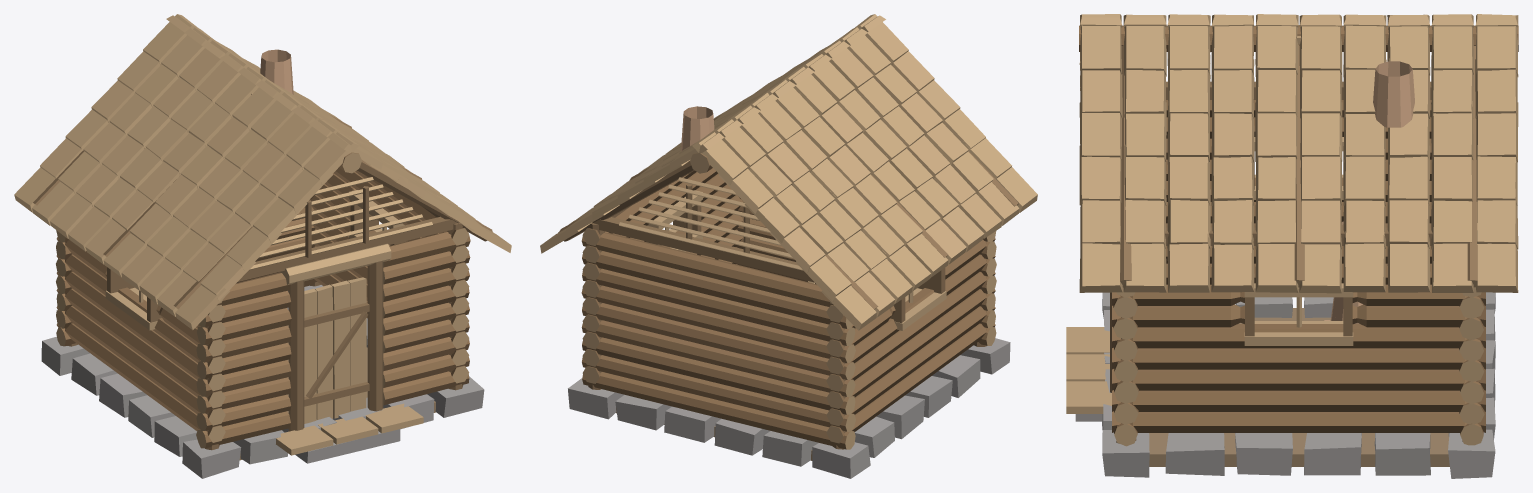
File: building_smelter_complete.glb
The picture shows the model from 3 angles, left to right: view 1: azimuth 30°, elevation 25°; view 2: azimuth 150°, elevation 25°; view 3: azimuth 270°, elevation 25°; orthographic projection. The views are drawn at different scales.
Visible parts, largest first — view 1: building_smelter_complete; view 2: building_smelter_complete; view 3: building_smelter_complete.
Boxes of the visible parts, x1,y1,x2,y2 form: building_smelter_complete: (14, 14, 511, 478); building_smelter_complete: (540, 14, 1037, 478); building_smelter_complete: (1066, 14, 1518, 478).
Bounding box in the file's own units: 3.91 × 3.57 × 3.87.
